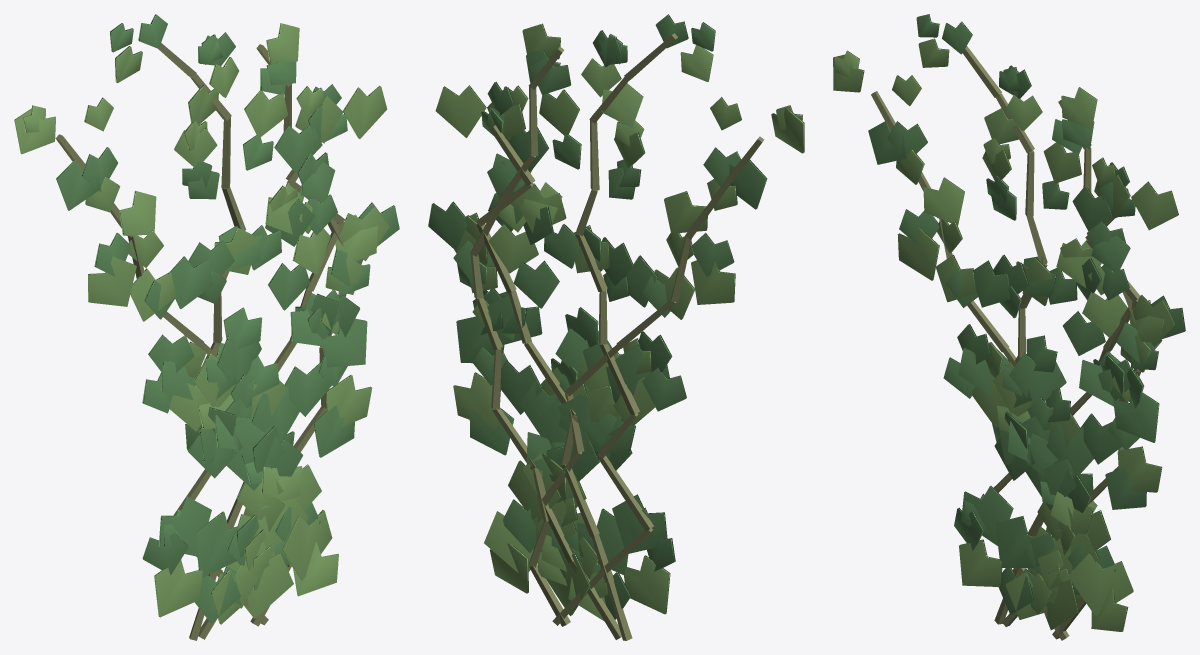
File: ivy_wall_3x3.glb
The picture shows the model from 3 angles, left to right: view 1: azimuth 30°, elevation 25°; view 2: azimuth 150°, elevation 25°; view 3: azimuth 330°, elevation 25°; orthographic projection. The views are drawn at different scales.
Parts seen in each view (by area): view 1: ivy_wall_3x3; view 2: ivy_wall_3x3; view 3: ivy_wall_3x3.
Boxes of the visible parts, x1=… form: ivy_wall_3x3: x1=14, y1=14, x2=399, y2=640; ivy_wall_3x3: x1=428, y1=14, x2=804, y2=640; ivy_wall_3x3: x1=833, y1=14, x2=1185, y2=640.
Bounding box in the file's own units: 1.71 × 2.74 × 0.0978.
